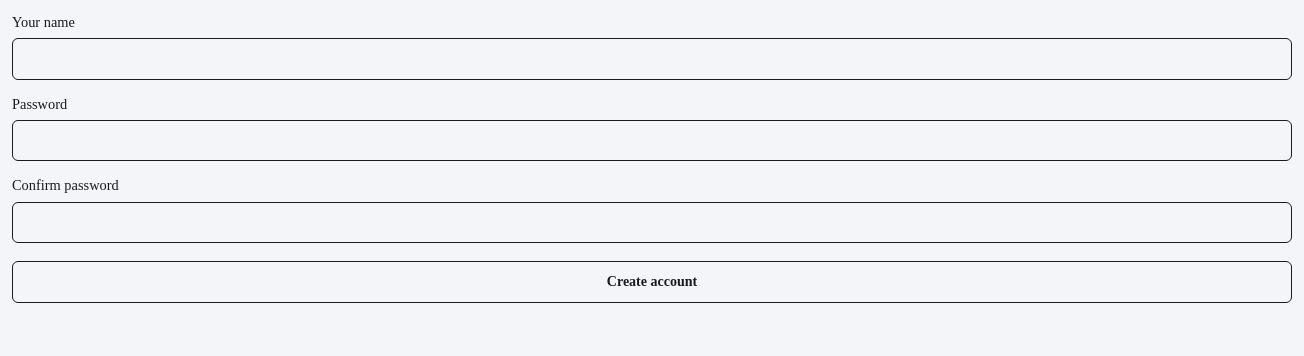
Test: RedeemForm shows the invalid-link message on a 410
Type "Leon" into the field labelled "Your name".
click(652, 59); type("Leon")  # box top-left (12, 38), bottom-right (1292, 80)
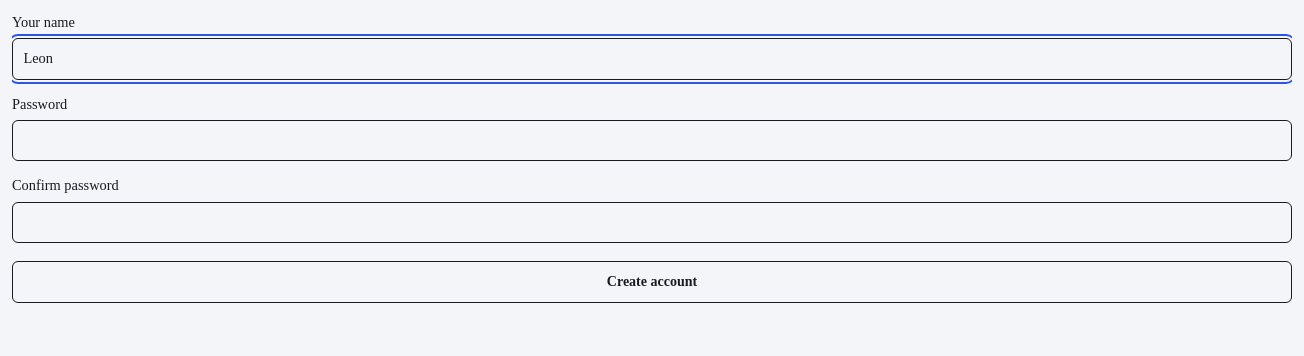
Type "raccooncity1" into the password field labelled "Password".
click(652, 141); type("raccooncity1")  # box top-left (12, 120), bottom-right (1292, 161)
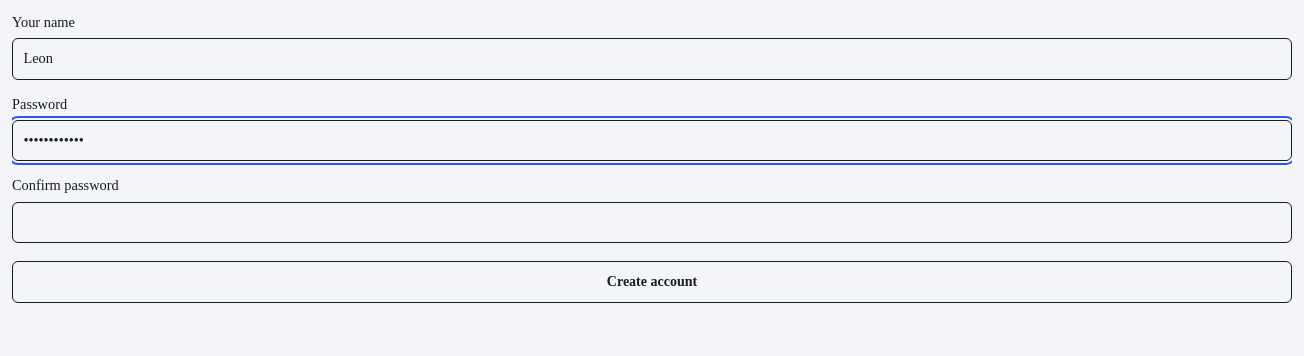
Type "raccooncity1" into the password field labelled "Confirm password".
click(652, 222); type("raccooncity1")  # box top-left (12, 202), bottom-right (1292, 243)
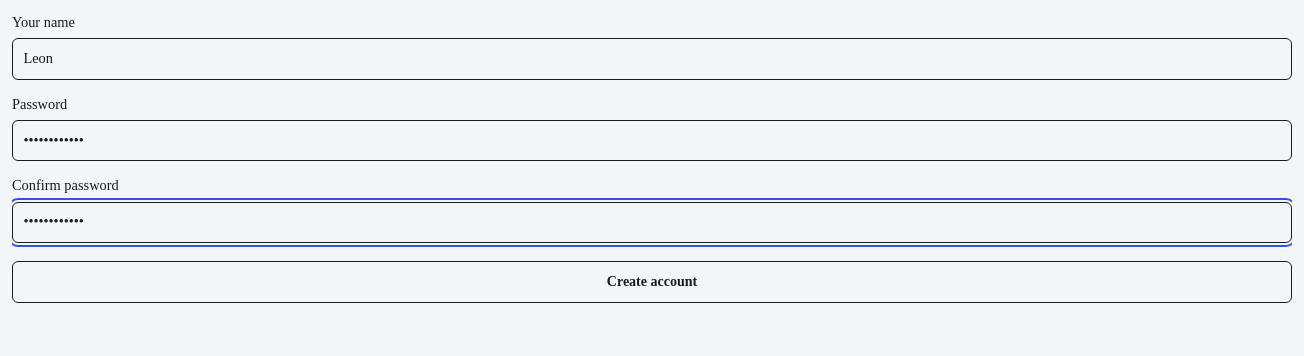
Click the button.
click(652, 282)  # box top-left (12, 261), bottom-right (1292, 303)
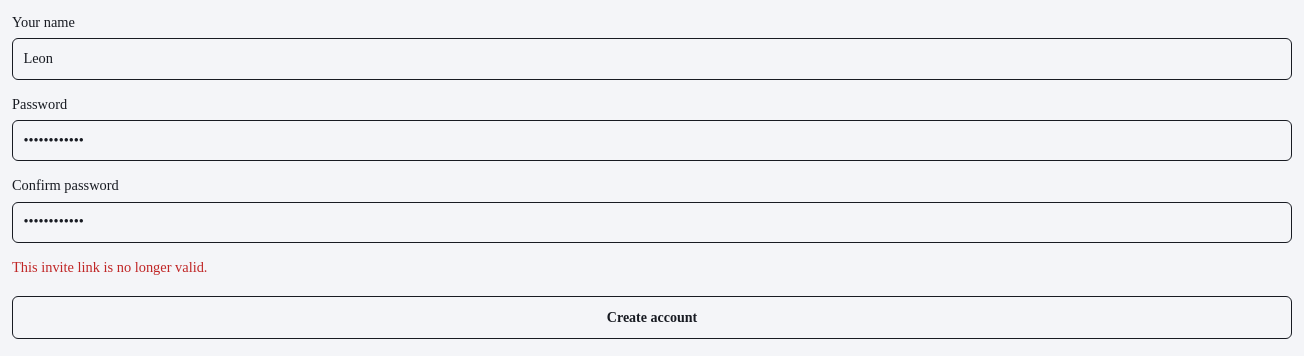
Expected: the message shows "no longer valid", top-left (12, 259), bottom-right (208, 275)
